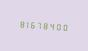eight: (41, 19, 46, 31), (17, 18, 22, 29)
four: (47, 20, 52, 31)
one: (23, 18, 28, 29)
seven: (35, 19, 40, 30)
six: (29, 18, 34, 30)
zero: (53, 20, 58, 31), (59, 21, 64, 32)
